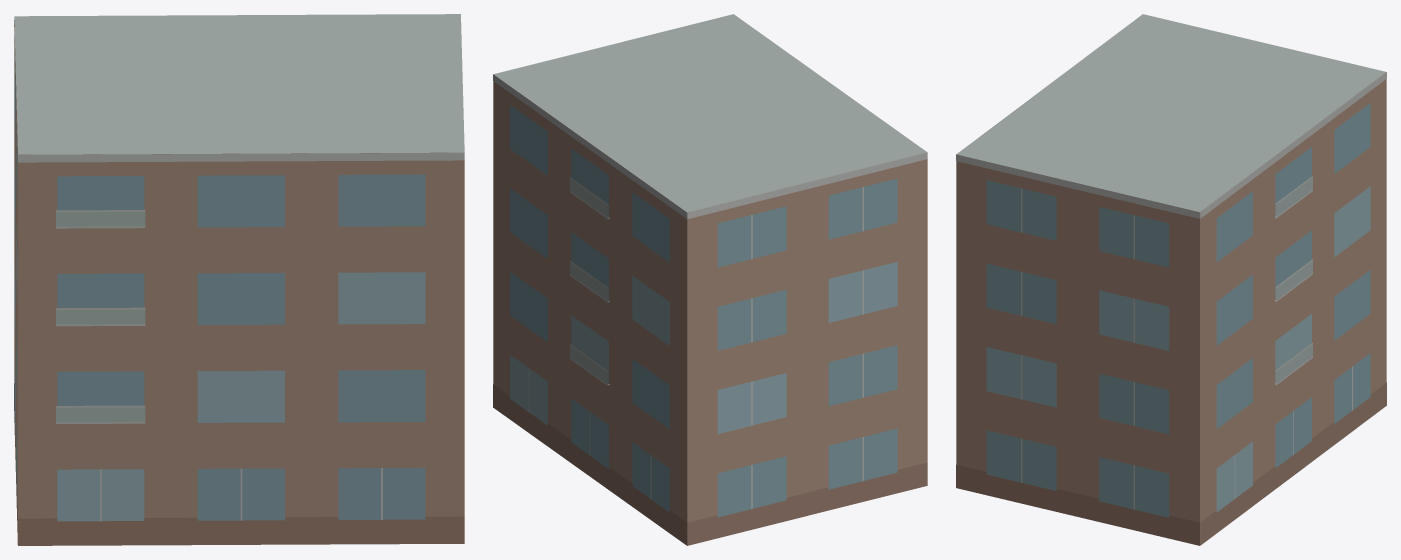
File: residential-8535cbfa-7b6c-4029-8a82-c04e3cdec5d2.glb
3 renders of one model, left to right at view 1: azimuth 30°, elevation 25°; view 2: azimuth 150°, elevation 25°; view 3: azimuth 270°, elevation 25°, orthographic. The views are drawn at different scales.
Visible parts, largest first — view 1: residential-8535cbfa-7b6c-4029-8a82-c04e3cdec5d2.tmp; view 2: residential-8535cbfa-7b6c-4029-8a82-c04e3cdec5d2.tmp; view 3: residential-8535cbfa-7b6c-4029-8a82-c04e3cdec5d2.tmp.
Boxes of the visible parts, x1,y1,x2,y2 form: residential-8535cbfa-7b6c-4029-8a82-c04e3cdec5d2.tmp: [14, 14, 464, 545]; residential-8535cbfa-7b6c-4029-8a82-c04e3cdec5d2.tmp: [493, 14, 927, 545]; residential-8535cbfa-7b6c-4029-8a82-c04e3cdec5d2.tmp: [956, 14, 1386, 545].
Bounding box in the file's own units: 15.56 × 12.2 × 14.28.
